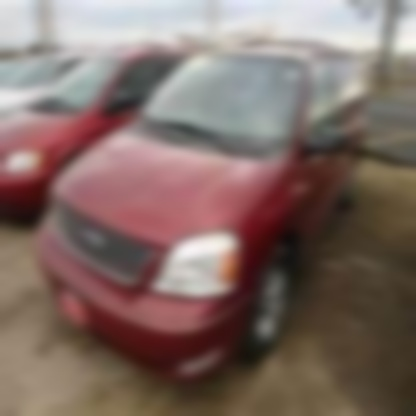Vehicle: (36, 44, 370, 370)
